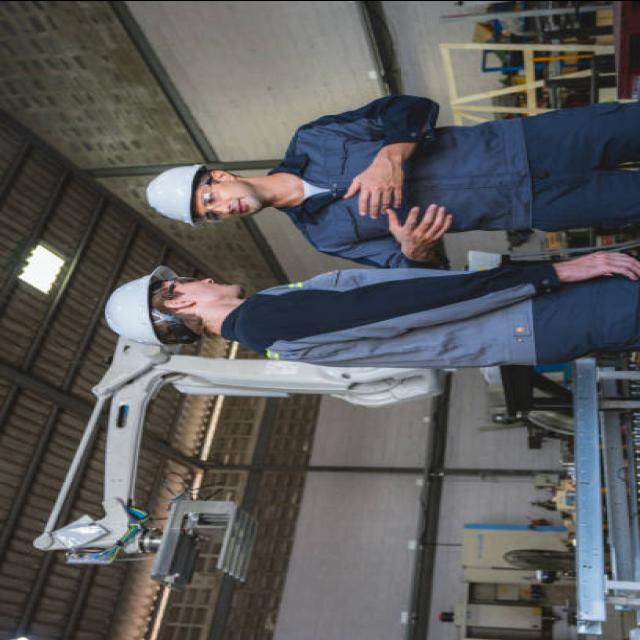Robotic-arm: (26, 336, 440, 568)
